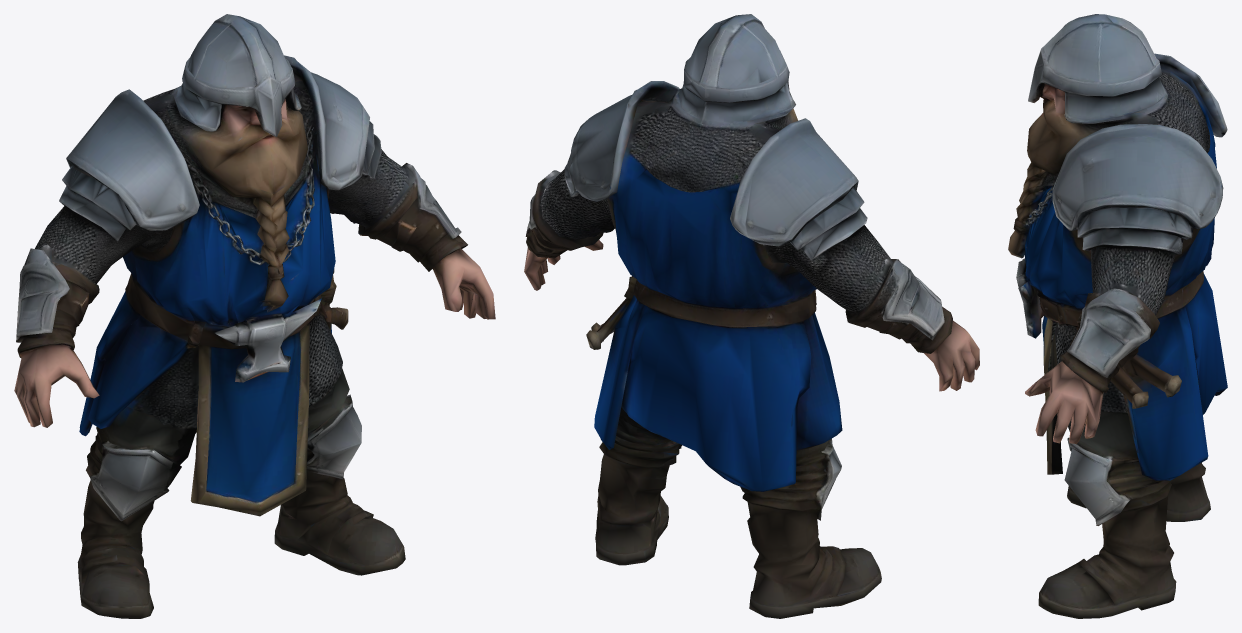
File: dwf_inf.glb
3 renders of one model, left to right at view 1: azimuth 30°, elevation 25°; view 2: azimuth 150°, elevation 25°; view 3: azimuth 270°, elevation 25°, orthographic. The views are drawn at different scales.
Visible parts, largest first — view 1: node_0; view 2: node_0; view 3: node_0.
Part boxes in pixels (x1,y1,x2,y2): node_0: (14,14,495,618); node_0: (524,14,979,618); node_0: (1008,14,1227,618).
Bounding box in the file's own units: 0.9005 × 1.05 × 0.3891.
Materials: 1 (1 with a texture image).
